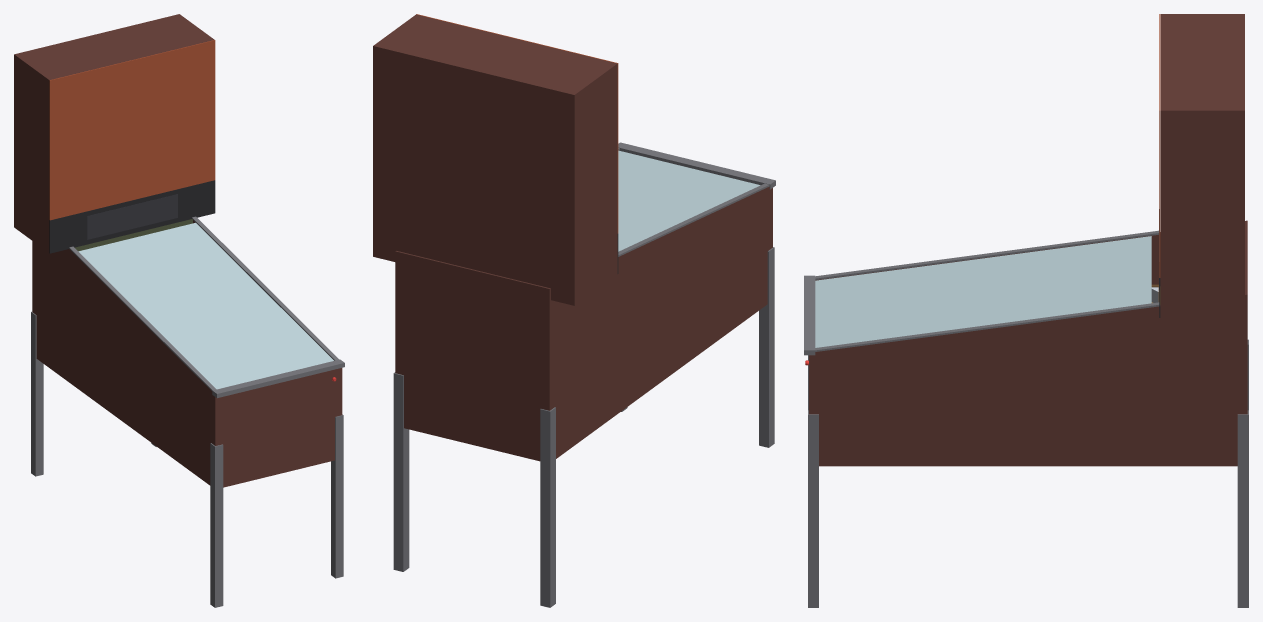
The model's file is dragonwar.glb.
3 views of the same model, side by side, from view 1: azimuth 30°, elevation 25°; view 2: azimuth 150°, elevation 25°; view 3: azimuth 270°, elevation 25° (orthographic). The views are drawn at different scales.
Parts seen in each view (by area): view 1: vis_cabinet, vis_head_translite, vis_top_glass, vis_head, vis_legs, vis_head_panel, vis_backbox, vis_lockbar, vis_cabinet_rail_r, vis_cabinet_rail_l, vis_cabinet_arch; view 2: vis_head, vis_cabinet, vis_legs, vis_top_glass, vis_lockbar, vis_cabinet_rail_l, vis_head_translite; view 3: vis_cabinet, vis_head, vis_top_glass, vis_legs, vis_cabinet_rail_r, vis_cabinet_rail_l, vis_lockbar.
Boxes of the visible parts, x1=… form: vis_cabinet: x1=32, y1=220, x2=342, y2=487; vis_head_translite: x1=49, y1=40, x2=215, y2=220; vis_top_glass: x1=78, y1=222, x2=333, y2=389; vis_head: x1=14, y1=14, x2=214, y2=252; vis_legs: x1=31, y1=311, x2=343, y2=607; vis_head_panel: x1=49, y1=180, x2=215, y2=253; vis_backbox: x1=87, y1=194, x2=177, y2=239; vis_lockbar: x1=212, y1=359, x2=344, y2=398; vis_cabinet_rail_r: x1=192, y1=216, x2=338, y2=360; vis_cabinet_rail_l: x1=69, y1=246, x2=216, y2=390; vis_cabinet_arch: x1=75, y1=219, x2=192, y2=251; vis_head: x1=373, y1=14, x2=617, y2=305; vis_cabinet: x1=395, y1=186, x2=772, y2=461; vis_legs: x1=393, y1=247, x2=774, y2=607; vis_top_glass: x1=618, y1=150, x2=760, y2=251; vis_lockbar: x1=618, y1=142, x2=775, y2=189; vis_cabinet_rail_l: x1=618, y1=183, x2=769, y2=256; vis_head_translite: x1=416, y1=14, x2=618, y2=233; vis_cabinet: x1=809, y1=220, x2=1247, y2=466; vis_head: x1=1160, y1=14, x2=1244, y2=317; vis_top_glass: x1=815, y1=236, x2=1151, y2=347; vis_legs: x1=808, y1=339, x2=1248, y2=607; vis_cabinet_rail_r: x1=815, y1=302, x2=1159, y2=351; vis_cabinet_rail_l: x1=815, y1=230, x2=1158, y2=280; vis_lockbar: x1=804, y1=275, x2=815, y2=355.
Bounding box in the file's own units: 0.73 × 1.79 × 1.42.
Materials: 28 (1 with a texture image).
